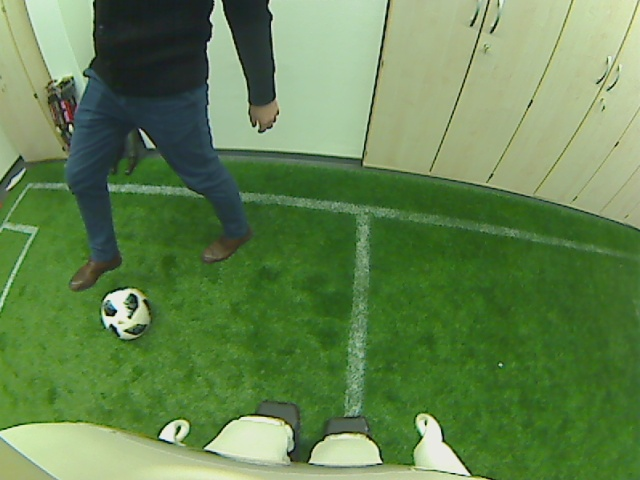ball: (99, 287, 152, 340)
